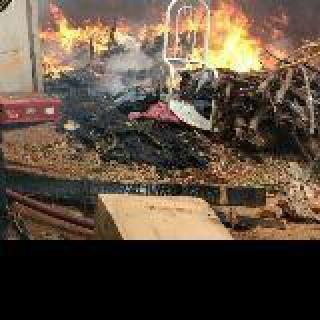fire: (146, 0, 290, 94), (36, 0, 142, 80)
